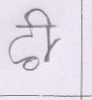i_matra: (30, 7, 56, 62)
